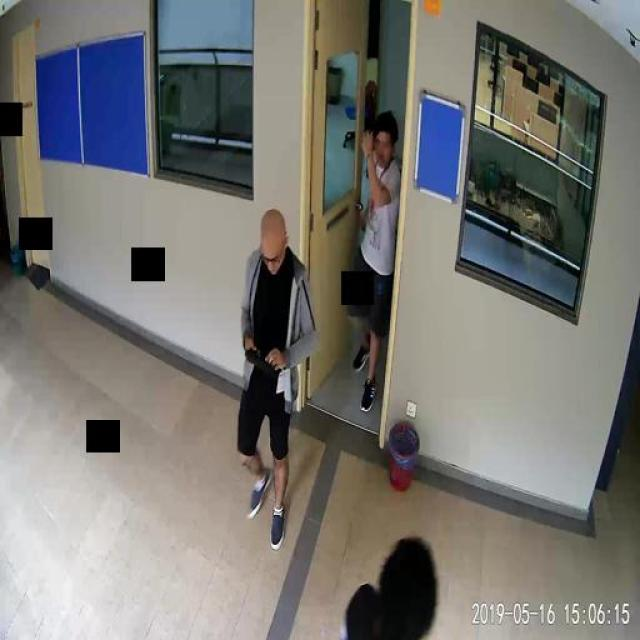gun: (243, 344, 275, 374)
